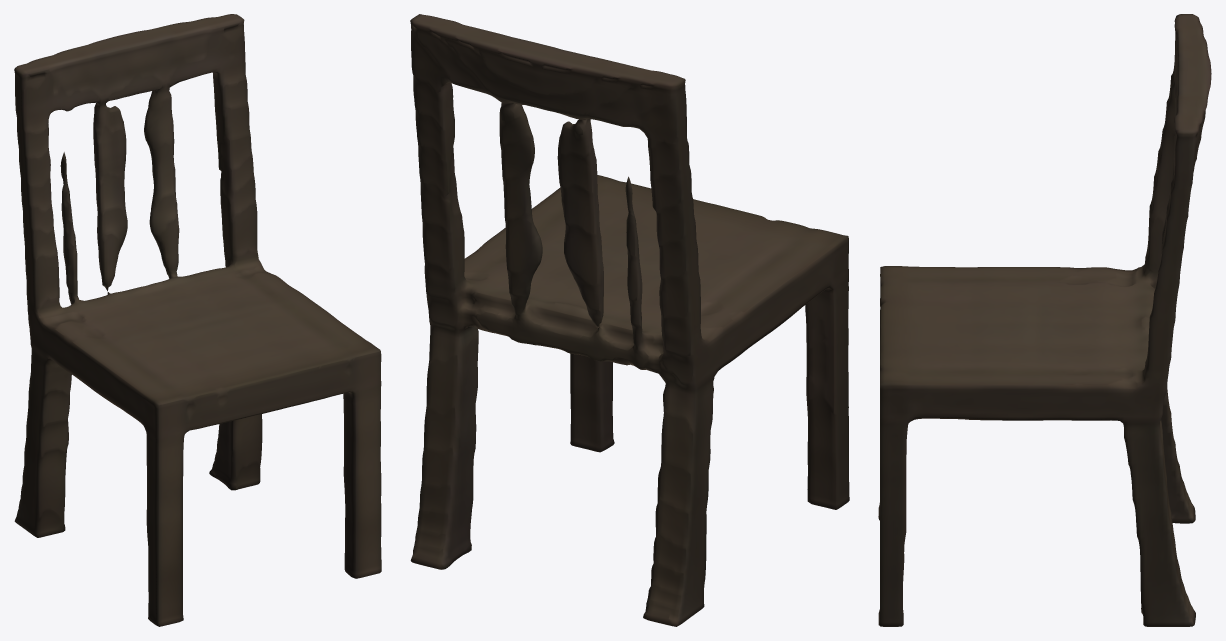
File: Classic four-legged chair with slanted backrest an.glb
3 renders of one model, left to right at view 1: azimuth 30°, elevation 25°; view 2: azimuth 150°, elevation 25°; view 3: azimuth 270°, elevation 25°, orthographic. The views are drawn at different scales.
Visible parts, largest first — view 1: Classic four-legged chair with slanted backrest an; view 2: Classic four-legged chair with slanted backrest an; view 3: Classic four-legged chair with slanted backrest an.
Boxes of the visible parts, box(x1,y1,x2,y2) form: Classic four-legged chair with slanted backrest an: box(14, 14, 381, 626); Classic four-legged chair with slanted backrest an: box(410, 14, 849, 626); Classic four-legged chair with slanted backrest an: box(878, 14, 1211, 626).
Size of the model in its own units: 1.03 by 1.98 by 1.21.
